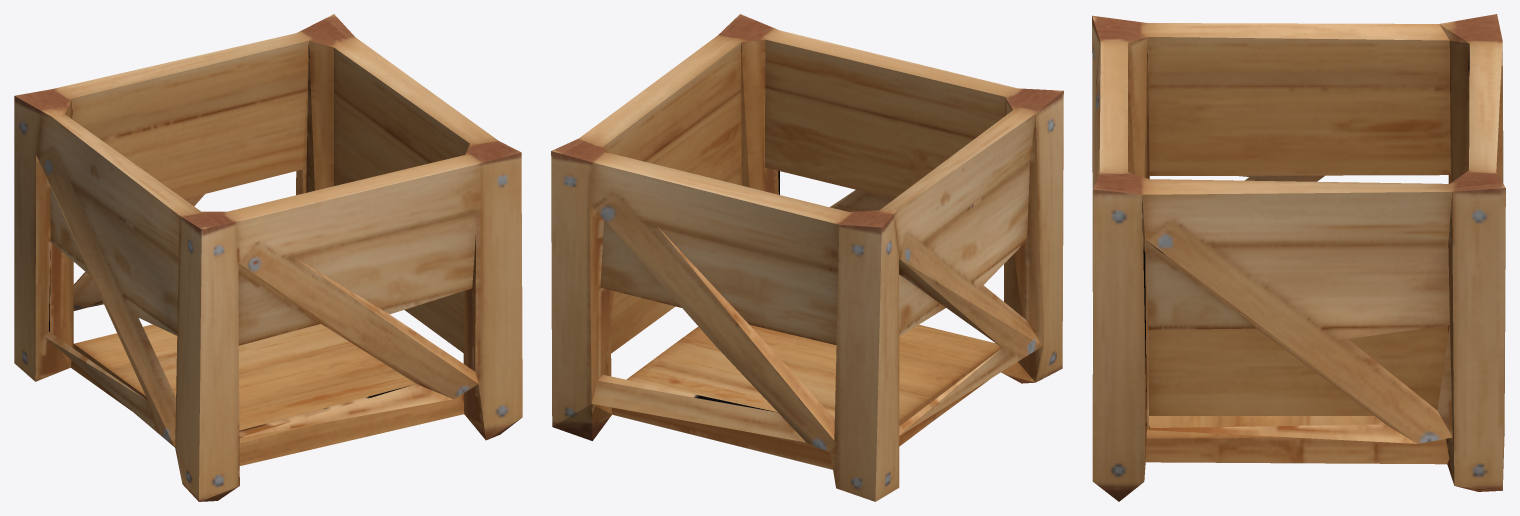
Rendered from crate_lod0.glb.
3 views of the same model, side by side, from view 1: azimuth 30°, elevation 25°; view 2: azimuth 150°, elevation 25°; view 3: azimuth 270°, elevation 25° (orthographic). The views are drawn at different scales.
Visible parts, largest first — view 1: low; view 2: low; view 3: low.
Boxes of the visible parts, x1,y1,x2,y2 form: low: (14,14,522,501); low: (551,14,1063,501); low: (1092,14,1505,501).
Bounding box in the file's own units: 1.28 × 1.09 × 1.28.
Materials: 1 (1 with a texture image).
